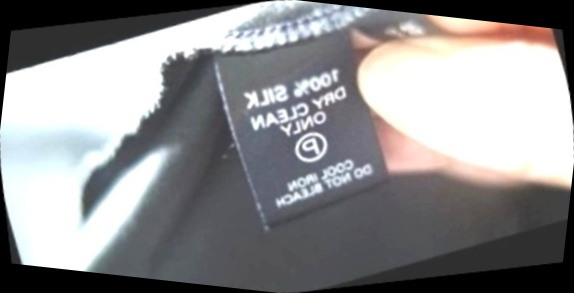dry_clean_any_solvent_except_trichloroethylene: (277, 115, 343, 179)
